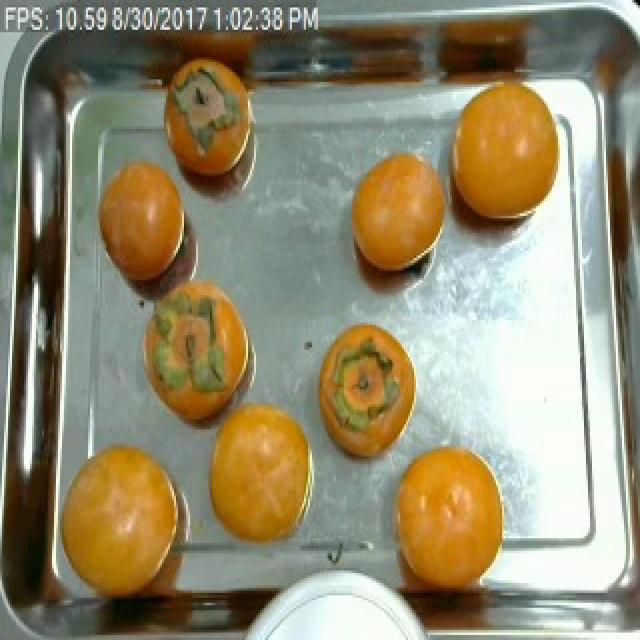Fruit: (54, 429, 194, 610), (130, 260, 264, 449), (376, 429, 518, 605), (192, 382, 326, 563), (436, 77, 566, 238), (308, 310, 426, 476), (164, 50, 272, 213), (340, 142, 456, 286), (96, 141, 190, 298)
